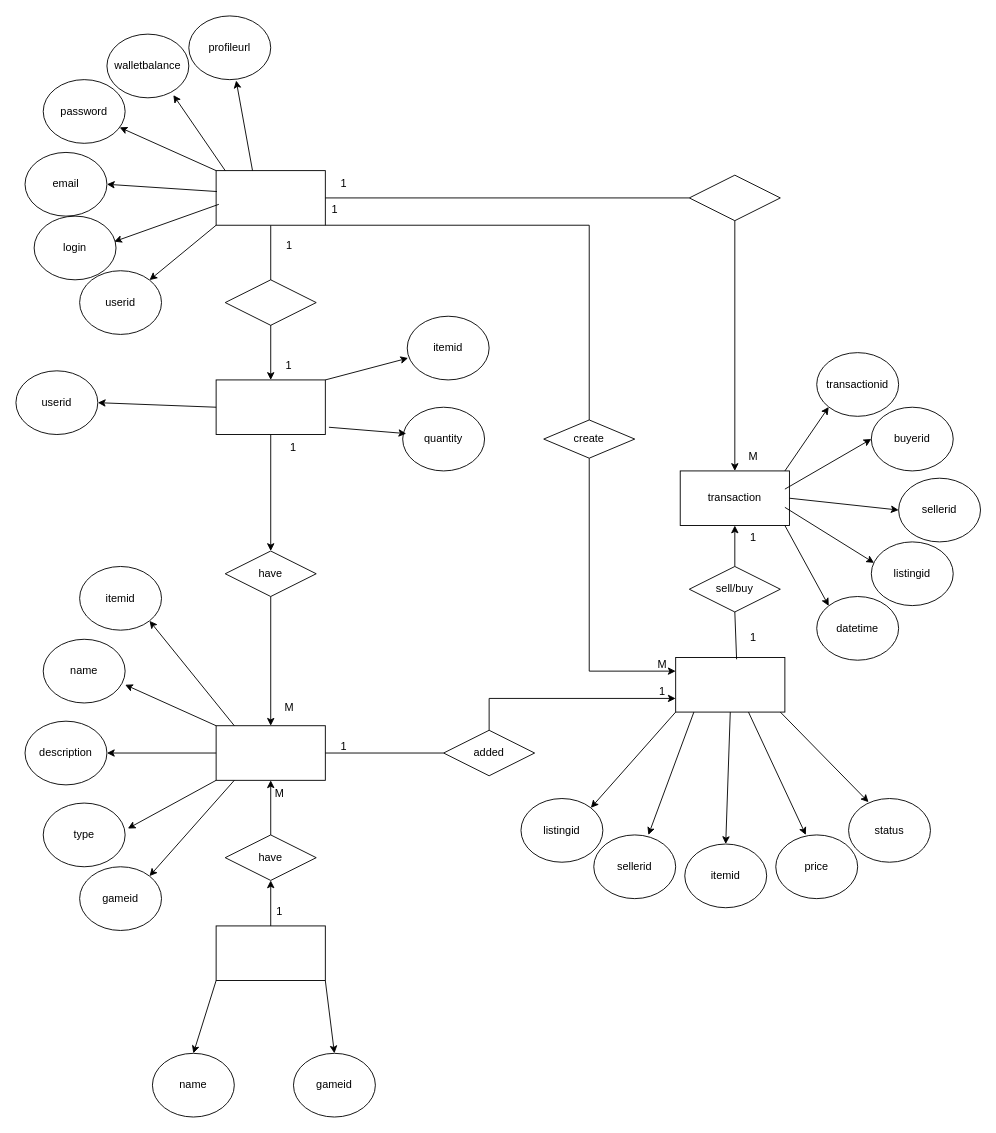
Image size: 996x1133. Some labels were removed from this diagram. The box of each missing label's shape, as (x1, y1, x2, y2) in pixels:
game: (215, 925, 325, 981)
inventory: (215, 379, 325, 435)
item: (215, 725, 325, 780)
listing: (675, 657, 785, 712)
open: (224, 279, 316, 325)
produces: (688, 174, 780, 221)
user: (215, 170, 325, 225)
